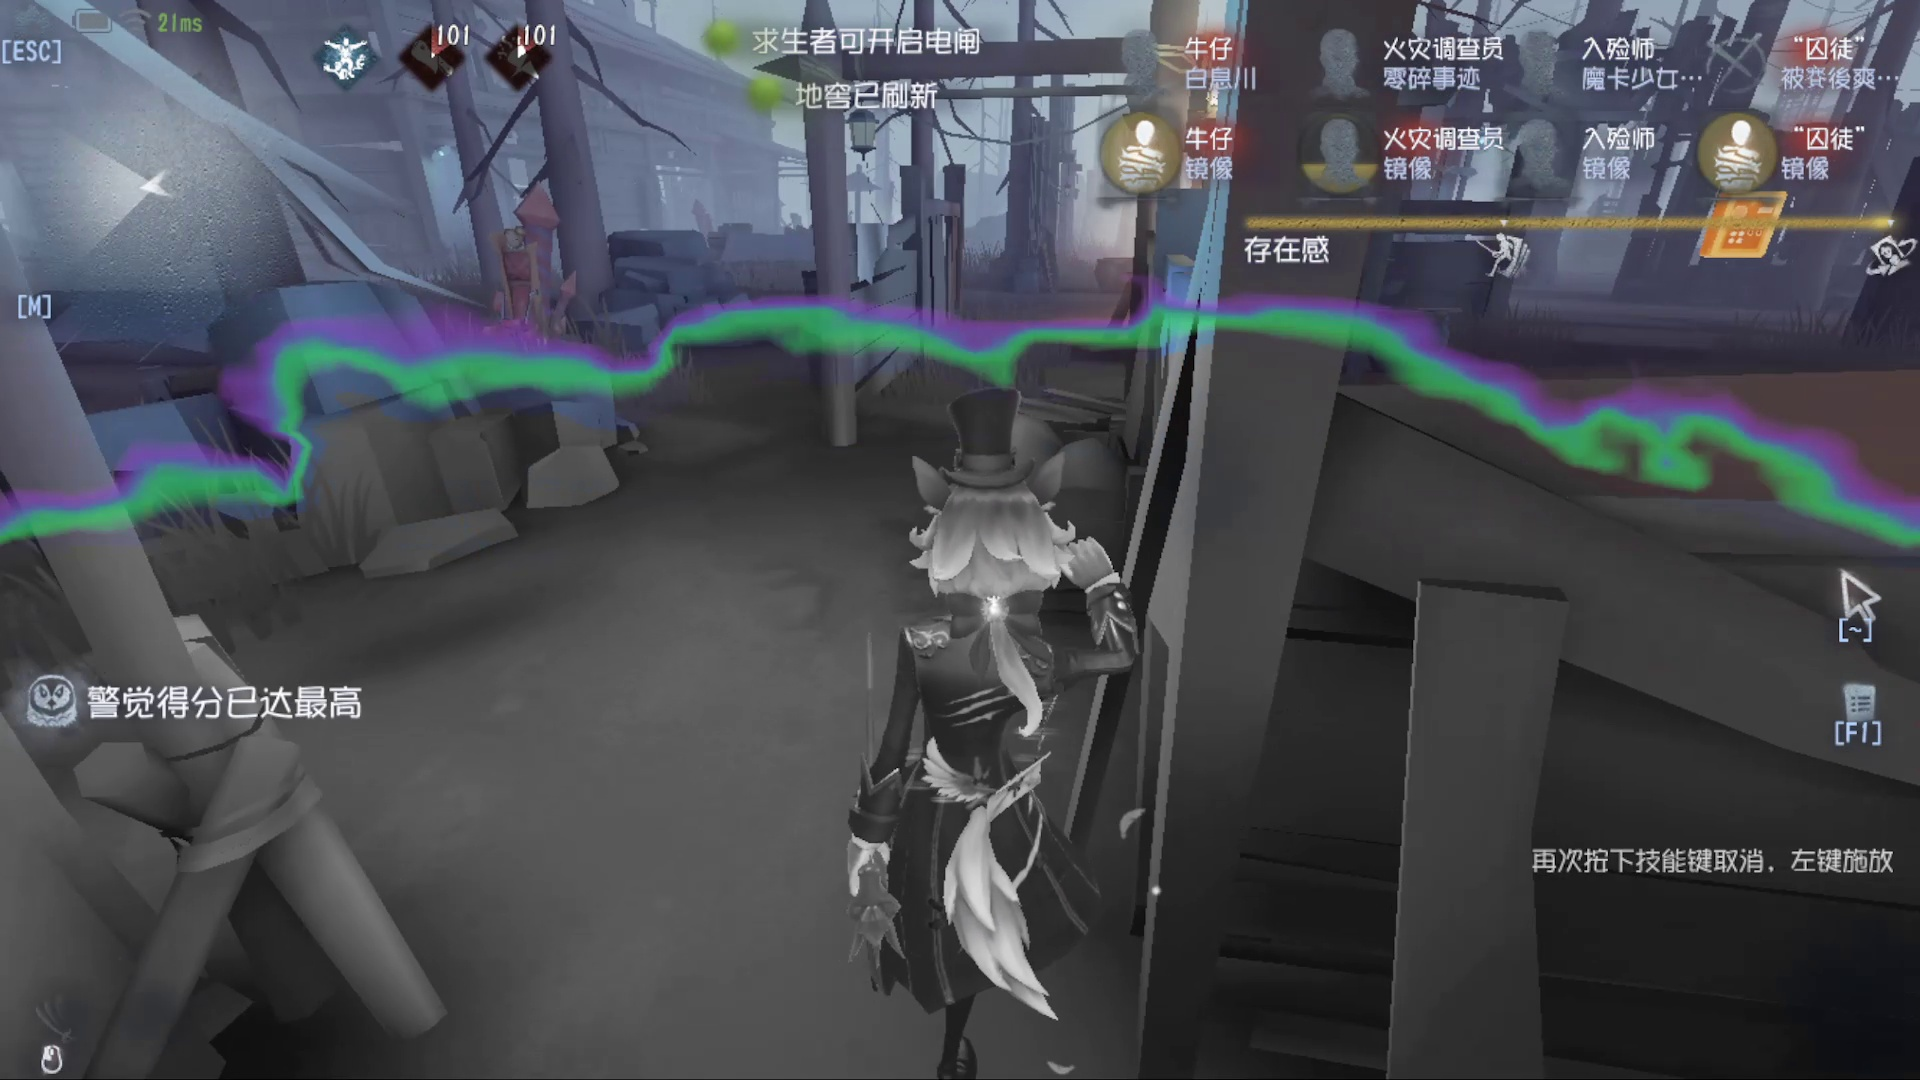狂欢之椅: (456, 167, 596, 397)
